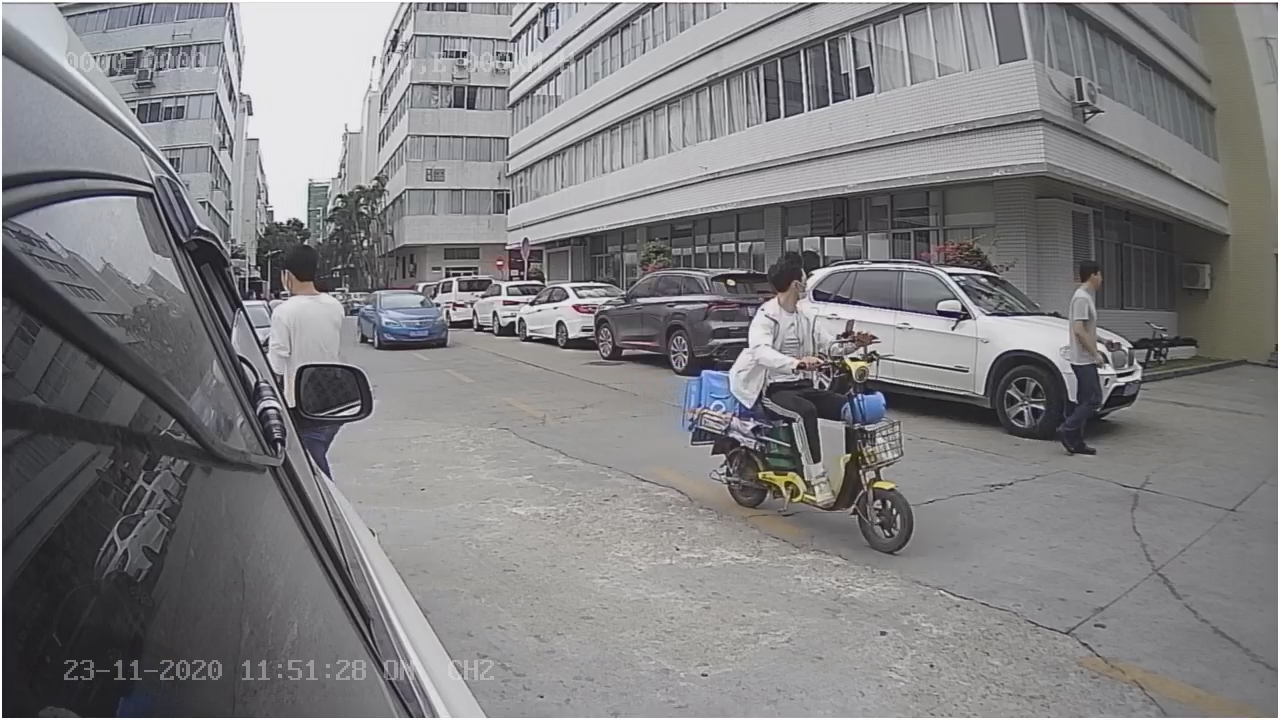person: (1050, 258, 1131, 462), (750, 255, 860, 375), (267, 245, 358, 359)
